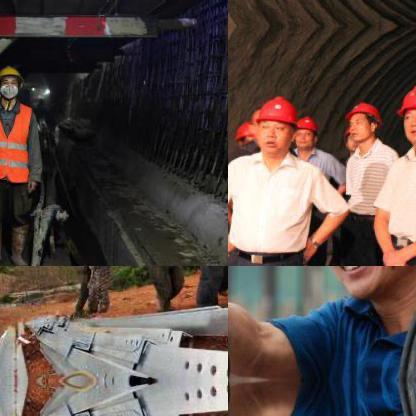Helmet: (276, 266, 415, 317), (250, 96, 298, 154), (342, 97, 380, 142), (395, 82, 415, 145), (0, 61, 25, 101), (292, 112, 318, 150), (232, 119, 258, 155), (340, 126, 358, 152)
